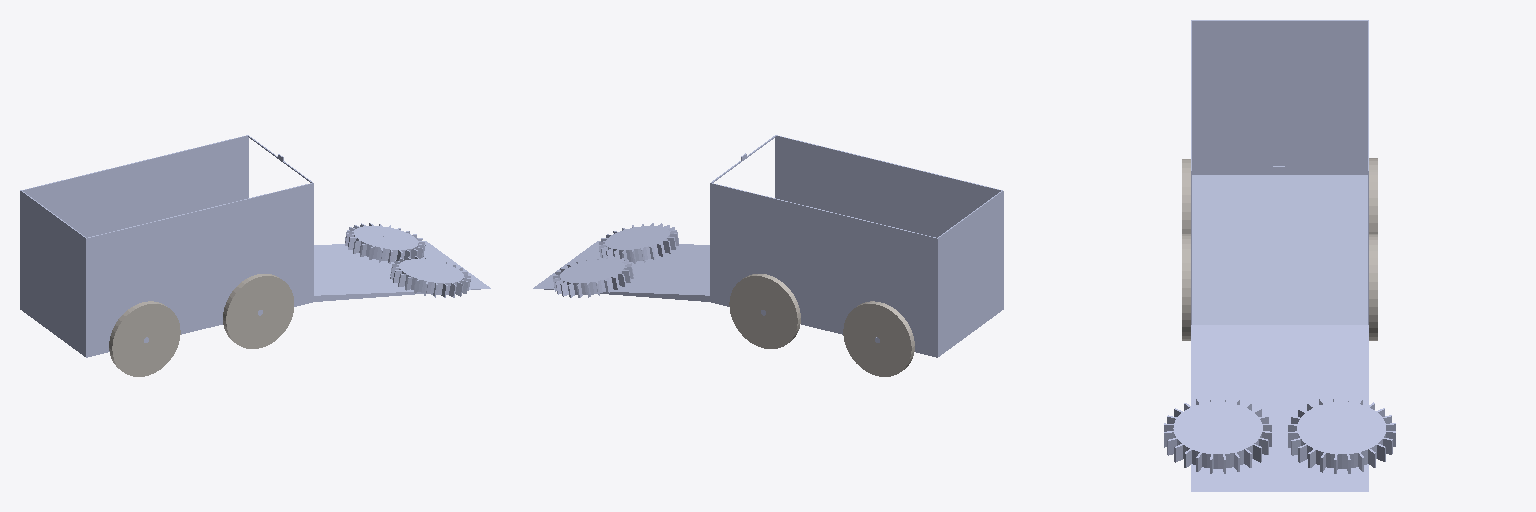
The robot description file, URDF, robot "bot_new":
<?xml version="1.0" encoding="utf-8"?>
<!-- This URDF was automatically created by SolidWorks to URDF Exporter! Originally created by [author] ([email redacted]) 
     Commit Version: 1.6.0-4-g7f85cfe  Build Version: 1.6.7995.38578
     For more information, please see http://wiki.ros.org/sw_urdf_exporter -->
<robot
  name="bot_new">
  <link
    name="base_link">
    <inertial>
      <origin
        xyz="0.297004074742344 -0.000220509804907953 0.0797029724326088"
        rpy="0 0 0" />
      <mass
        value="190.060871441517" />
      <inertia
        ixx="35.9732926100999"
        ixy="0.0514457236296911"
        ixz="17.2660974480779"
        iyy="157.89448154534"
        iyz="-0.00817407872163751"
        izz="165.963603999547" />
    </inertial>
    <visual>
      <origin
        xyz="0 0 0"
        rpy="0 0 0" />
      <geometry>
        <mesh
          filename="package://bot_new/meshes/base_link.STL" />
      </geometry>
      <material
        name="">
        <color
          rgba="0.792156862745098 0.819607843137255 0.933333333333333 1" />
      </material>
    </visual>
    <collision>
      <origin
        xyz="0 0 0"
        rpy="0 0 0" />
      <geometry>
        <mesh
          filename="package://bot_new/meshes/base_link.STL" />
      </geometry>
    </collision>
  </link>
  <link
    name="left_wt">
    <inertial>
      <origin
        xyz="0 -2.22044604925031E-16 0"
        rpy="0 0 0" />
      <mass
        value="109.504138931689" />
      <inertia
        ixx="2.50376650994852"
        ixy="5.46166844389562E-18"
        ixz="-1.67320029664418E-16"
        iyy="4.96190629534217"
        iyz="-1.09233368877913E-17"
        izz="2.50376650994852" />
    </inertial>
    <visual>
      <origin
        xyz="0 0 0"
        rpy="0 0 0" />
      <geometry>
        <mesh
          filename="package://bot_new/meshes/left_wt.STL" />
      </geometry>
      <material
        name="">
        <color
          rgba="0.776470588235294 0.756862745098039 0.737254901960784 1" />
      </material>
    </visual>
    <collision>
      <origin
        xyz="0 0 0"
        rpy="0 0 0" />
      <geometry>
        <mesh
          filename="package://bot_new/meshes/left_wt.STL" />
      </geometry>
    </collision>
  </link>
  <joint
    name="joint_1"
    type="continuous">
    <origin
      xyz="0.505 0.525 0"
      rpy="0 0 0" />
    <parent
      link="base_link" />
    <child
      link="left_wt" />
    <axis
      xyz="0 -1 0" />
    <limit
      effort="50"
      velocity="50" />
  </joint>
  <link
    name="left_wb">
    <inertial>
      <origin
        xyz="1.11022302462516E-16 -2.22044604925031E-16 0"
        rpy="0 0 0" />
      <mass
        value="109.504138931689" />
      <inertia
        ixx="2.50376650994852"
        ixy="-2.57667422554763E-18"
        ixz="-1.32668441187836E-16"
        iyy="4.96190629534218"
        iyz="7.92822838629891E-19"
        izz="2.50376650994852" />
    </inertial>
    <visual>
      <origin
        xyz="0 0 0"
        rpy="0 0 0" />
      <geometry>
        <mesh
          filename="package://bot_new/meshes/left_wb.STL" />
      </geometry>
      <material
        name="">
        <color
          rgba="0.776470588235294 0.756862745098039 0.737254901960784 1" />
      </material>
    </visual>
    <collision>
      <origin
        xyz="0 0 0"
        rpy="0 0 0" />
      <geometry>
        <mesh
          filename="package://bot_new/meshes/left_wb.STL" />
      </geometry>
    </collision>
  </link>
  <joint
    name="joint_2"
    type="continuous">
    <origin
      xyz="-0.495 0.525 0"
      rpy="0 0 0" />
    <parent
      link="base_link" />
    <child
      link="left_wb" />
    <axis
      xyz="0 -1 0" />
    <limit
      effort="50"
      velocity="50" />
  </joint>
  <link
    name="right_wb">
    <inertial>
      <origin
        xyz="0 -6.93889390390723E-18 0"
        rpy="0 0 0" />
      <mass
        value="109.504138931689" />
      <inertia
        ixx="2.50376650994852"
        ixy="1.6092966130883E-33"
        ixz="-1.82783223511914E-36"
        iyy="4.96190629534217"
        iyz="3.66216676461271E-33"
        izz="2.50376650994852" />
    </inertial>
    <visual>
      <origin
        xyz="0 0 0"
        rpy="0 0 0" />
      <geometry>
        <mesh
          filename="package://bot_new/meshes/right_wb.STL" />
      </geometry>
      <material
        name="">
        <color
          rgba="0.776470588235294 0.756862745098039 0.737254901960784 1" />
      </material>
    </visual>
    <collision>
      <origin
        xyz="0 0 0"
        rpy="0 0 0" />
      <geometry>
        <mesh
          filename="package://bot_new/meshes/right_wb.STL" />
      </geometry>
    </collision>
  </link>
  <joint
    name="joint_3"
    type="continuous">
    <origin
      xyz="-0.495 -0.525 0"
      rpy="0 0 0" />
    <parent
      link="base_link" />
    <child
      link="right_wb" />
    <axis
      xyz="0 1 0" />
    <limit
      effort="50"
      velocity="50" />
  </joint>
  <link
    name="right_wt">
    <inertial>
      <origin
        xyz="-2.77555756156289E-17 -6.93889390390723E-18 0"
        rpy="0 0 0" />
      <mass
        value="109.504138931689" />
      <inertia
        ixx="2.50376650994852"
        ixy="-7.92822838630021E-19"
        ixz="5.95288137885422E-18"
        iyy="4.96190629534217"
        iyz="4.40457132572219E-20"
        izz="2.50376650994852" />
    </inertial>
    <visual>
      <origin
        xyz="0 0 0"
        rpy="0 0 0" />
      <geometry>
        <mesh
          filename="package://bot_new/meshes/right_wt.STL" />
      </geometry>
      <material
        name="">
        <color
          rgba="0.776470588235294 0.756862745098039 0.737254901960784 1" />
      </material>
    </visual>
    <collision>
      <origin
        xyz="0 0 0"
        rpy="0 0 0" />
      <geometry>
        <mesh
          filename="package://bot_new/meshes/right_wt.STL" />
      </geometry>
    </collision>
  </link>
  <joint
    name="joint_4"
    type="continuous">
    <origin
      xyz="0.505 -0.525 0"
      rpy="0 0 0" />
    <parent
      link="base_link" />
    <child
      link="right_wt" />
    <axis
      xyz="0 1 0" />
    <limit
      effort="50"
      velocity="50" />
  </joint>
  <link
    name="right_fan">
    <inertial>
      <origin
        xyz="-0.00957201542913211 2.77555756156289E-17 -0.0490752128943367"
        rpy="0 0 0" />
      <mass
        value="21.0784185617973" />
      <inertia
        ixx="0.40402741797783"
        ixy="-6.6934647624683E-17"
        ixz="0.0668649417515826"
        iyy="0.390985553941658"
        iyz="-3.72195717699959E-18"
        izz="0.733798546244148" />
    </inertial>
    <visual>
      <origin
        xyz="0 0 0"
        rpy="0 0 0" />
      <geometry>
        <mesh
          filename="package://bot_new/meshes/right_fan.STL" />
      </geometry>
      <material
        name="">
        <color
          rgba="0.792156862745098 0.819607843137255 0.933333333333333 1" />
      </material>
    </visual>
    <collision>
      <origin
        xyz="0 0 0"
        rpy="0 0 0" />
      <geometry>
        <mesh
          filename="package://bot_new/meshes/right_fan.STL" />
      </geometry>
    </collision>
  </link>
  <joint
    name="joint_5"
    type="continuous">
    <origin
      xyz="2.1264 -0.34624 -0.11285"
      rpy="0 0 0" />
    <parent
      link="base_link" />
    <child
      link="right_fan" />
    <axis
      xyz="0.19144 0 0.9815" />
    <limit
      effort="15"
      velocity="15" />
  </joint>
  <link
    name="left_fan">
    <inertial>
      <origin
        xyz="-0.00957201542913211 0 -0.0490752128943367"
        rpy="0 0 0" />
      <mass
        value="21.0784185617973" />
      <inertia
        ixx="0.404027417977831"
        ixy="-3.60253700379095E-17"
        ixz="0.0668649417515828"
        iyy="0.390985553941657"
        iyz="4.27486940567405E-17"
        izz="0.733798546244147" />
    </inertial>
    <visual>
      <origin
        xyz="0 0 0"
        rpy="0 0 0" />
      <geometry>
        <mesh
          filename="package://bot_new/meshes/left_fan.STL" />
      </geometry>
      <material
        name="">
        <color
          rgba="0.792156862745098 0.819607843137255 0.933333333333333 1" />
      </material>
    </visual>
    <collision>
      <origin
        xyz="0 0 0"
        rpy="0 0 0" />
      <geometry>
        <mesh
          filename="package://bot_new/meshes/left_fan.STL" />
      </geometry>
    </collision>
  </link>
  <joint
    name="joint_6"
    type="continuous">
    <origin
      xyz="2.1264 0.34624 -0.11285"
      rpy="0 0 0" />
    <parent
      link="base_link" />
    <child
      link="left_fan" />
    <axis
      xyz="0.19144 0 0.9815" />
    <limit
      effort="15"
      velocity="15" />
  </joint>
  <link
    name="lidar">
    <inertial>
      <origin
        xyz="-0.005 0 2.22044604925031E-16"
        rpy="0 0 0" />
      <mass
        value="0.0210000000000001" />
      <inertia
        ixx="1.015E-05"
        ixy="-1.93259601934173E-22"
        ixz="4.41162993361561E-24"
        iyy="1.75000000000001E-06"
        iyz="1.41172157875719E-22"
        izz="8.75000000000004E-06" />
    </inertial>
    <visual>
      <origin
        xyz="0 0 0"
        rpy="0 0 0" />
      <geometry>
        <mesh
          filename="package://bot_new/meshes/lidar.STL" />
      </geometry>
      <material
        name="">
        <color
          rgba="0.792156862745098 0.819607843137255 0.933333333333333 1" />
      </material>
    </visual>
    <collision>
      <origin
        xyz="0 0 0"
        rpy="0 0 0" />
      <geometry>
        <mesh
          filename="package://bot_new/meshes/lidar.STL" />
      </geometry>
    </collision>
  </link>
  <joint
    name="joint_7"
    type="fixed">
    <origin
      xyz="1.005 -0.0059342 0.965"
      rpy="0 0 0" />
    <parent
      link="base_link" />
    <child
      link="lidar" />
    <axis
      xyz="0 0 0" />
    <limit
      lower="0"
      upper="0"
      effort="0"
      velocity="0" />
  </joint>
</robot>

--- What the picture shows (computed from the rendered views, not written in the file) ---
The picture shows the robot from 3 angles, left to right: view 1: azimuth 30°, elevation 25°; view 2: azimuth 150°, elevation 25°; view 3: azimuth 270°, elevation 25°; orthographic projection.
Model bot_new with 8 links and 7 joints (6 continuous, 1 fixed), rooted at base_link, posed all joints at 0.
Visible links, largest first — view 1: base_link, right_wb, right_wt, right_fan, left_fan; view 2: base_link, left_wb, left_wt, left_fan, right_fan; view 3: base_link, right_fan, left_fan, left_wt, right_wt, left_wb, right_wb.
Link boxes in pixels (x1,y1,x2,y2): base_link: (20,135,490,357); right_wb: (109,301,180,376); right_wt: (223,274,293,348); right_fan: (390,256,470,297); left_fan: (345,223,425,263); base_link: (533,135,1003,357); left_wb: (843,301,914,376); left_wt: (729,274,800,348); left_fan: (553,256,633,297); right_fan: (598,223,678,263); base_link: (1191,20,1368,491); right_fan: (1164,396,1271,473); left_fan: (1288,396,1395,473); left_wt: (1369,234,1377,340); right_wt: (1182,234,1190,340); left_wb: (1369,158,1377,233); right_wb: (1182,159,1190,233).
Bounding box of the posed robot: 3.56 × 1.3 × 1.28 m (x, y, z).
8 mesh visuals loaded from 8 distinct referenced files (8 binary STL).